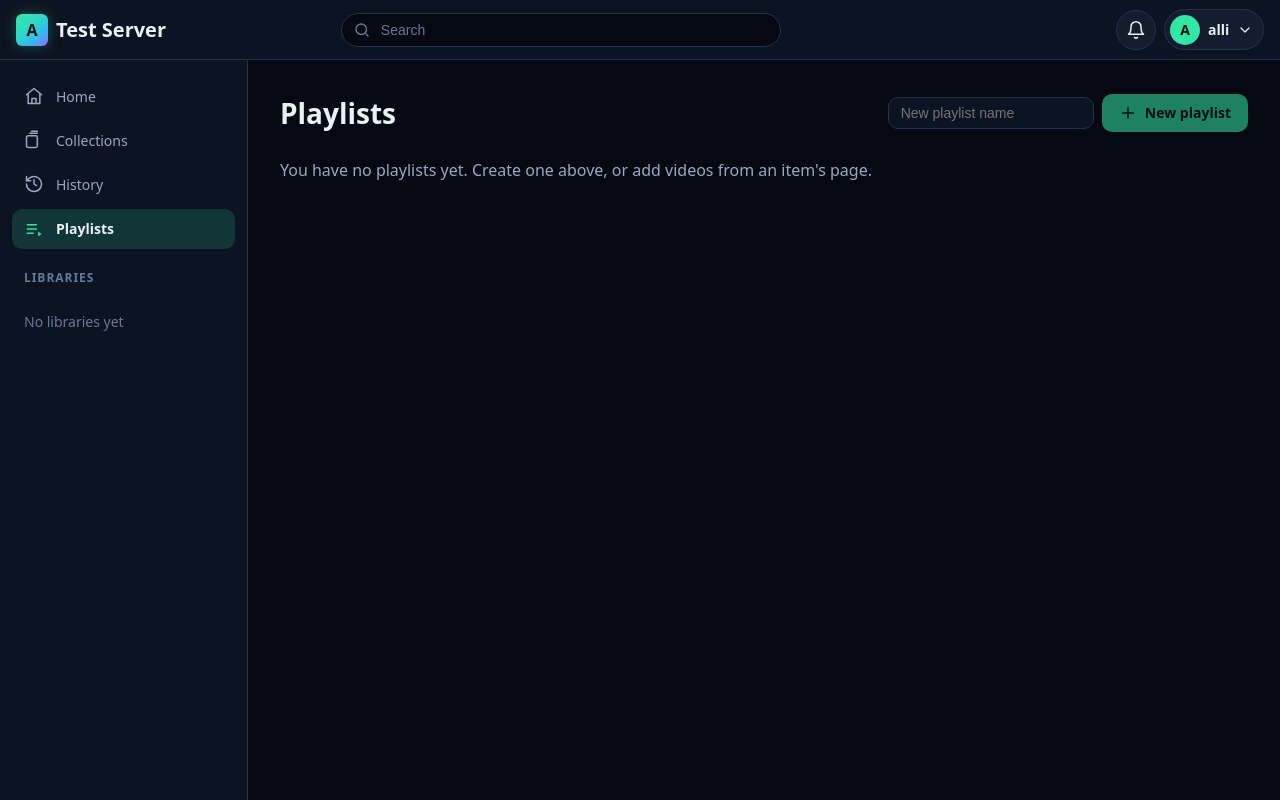
PlaylistsPage — listing › creates a playlist via the inline form (POST /playlists)
The image size is (1280, 800).
Expected: the text "no playlists yet" is shown, [280, 159, 872, 181]
In the field labelled "New playlist name": [991, 113] box [888, 97, 1094, 129], type "Fresh Mix"
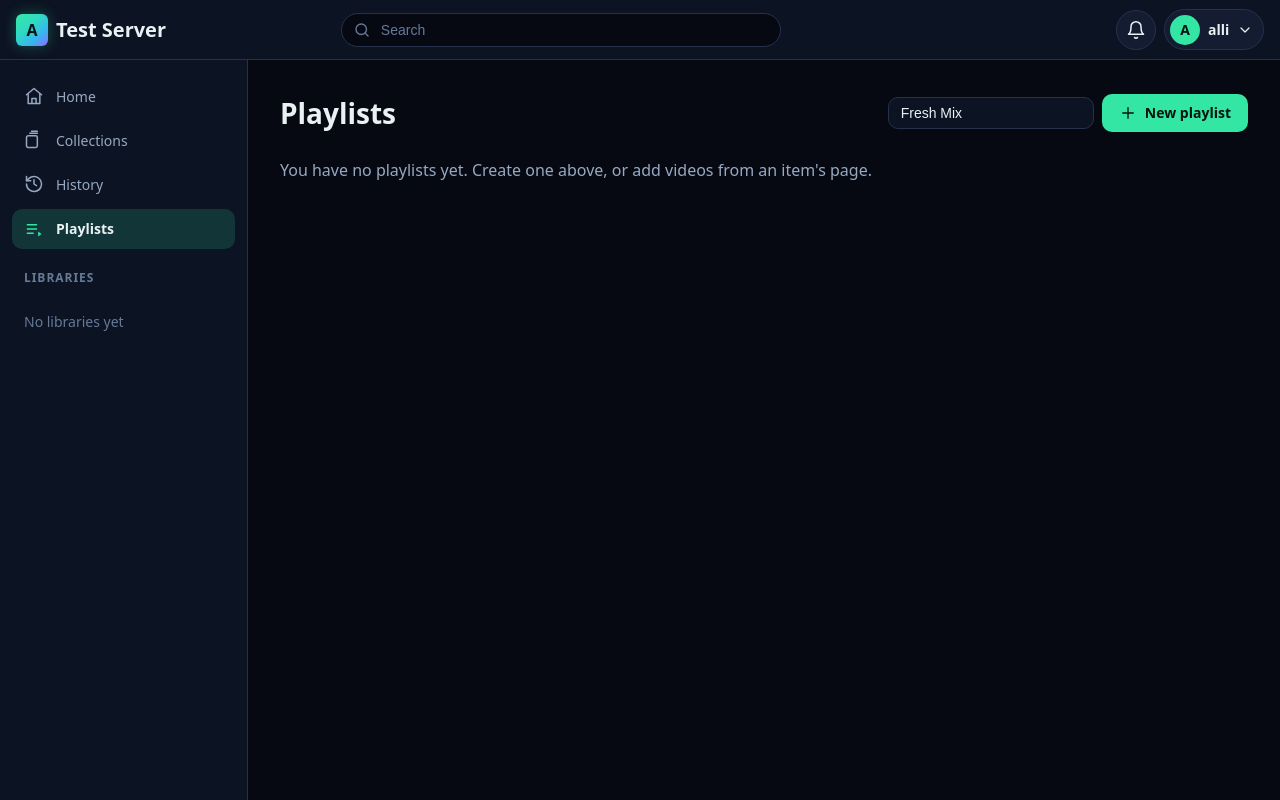
Click the button "New playlist": [1175, 113] box [1102, 94, 1248, 132]
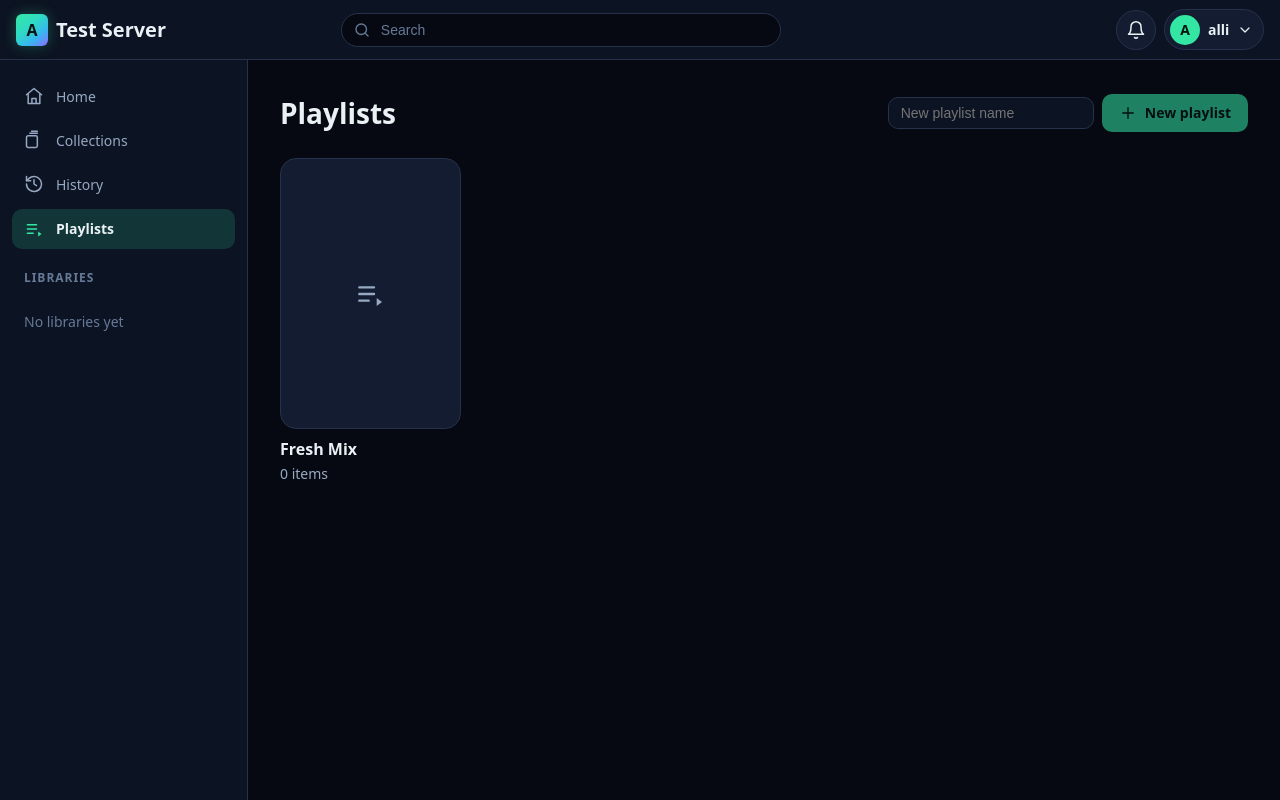
Now the link "Fresh Mix 0 items" is shown, box [280, 158, 461, 484]
